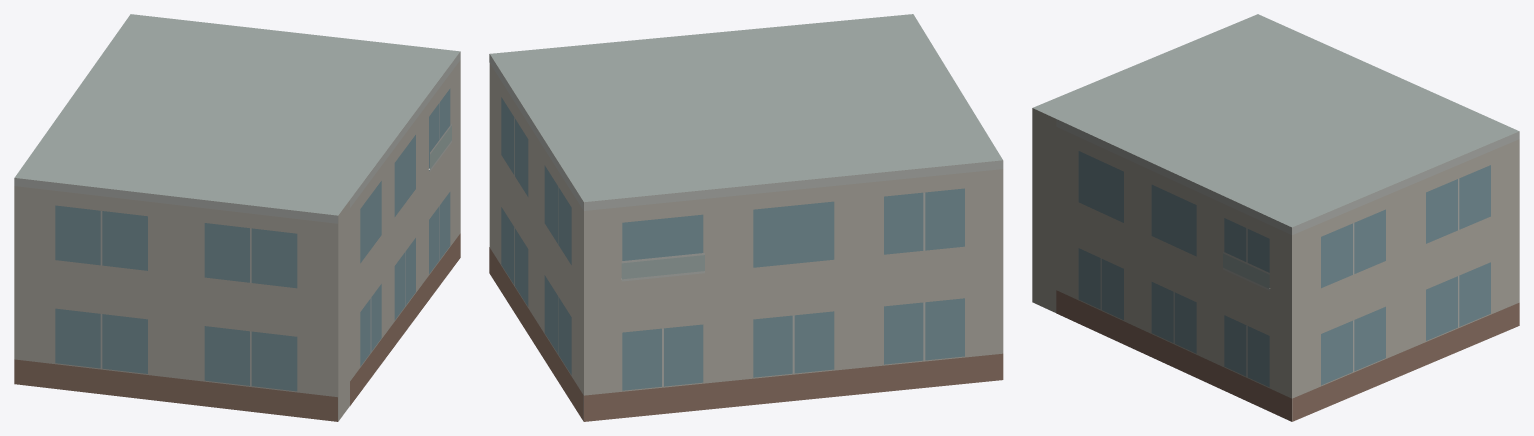
File: survey-upis-32946215.glb
3 views of the same model, side by side, from view 1: azimuth 30°, elevation 25°; view 2: azimuth 150°, elevation 25°; view 3: azimuth 270°, elevation 25° (orthographic). The views are drawn at different scales.
Visible parts, largest first — view 1: survey-upis-32946215.tmp; view 2: survey-upis-32946215.tmp; view 3: survey-upis-32946215.tmp.
Boxes of the visible parts, x1,y1,x2,y2 form: survey-upis-32946215.tmp: (14,14,460,421); survey-upis-32946215.tmp: (489,14,1003,421); survey-upis-32946215.tmp: (1032,14,1519,421).
Bounding box in the file's own units: 14.38 × 6.1 × 13.87.
